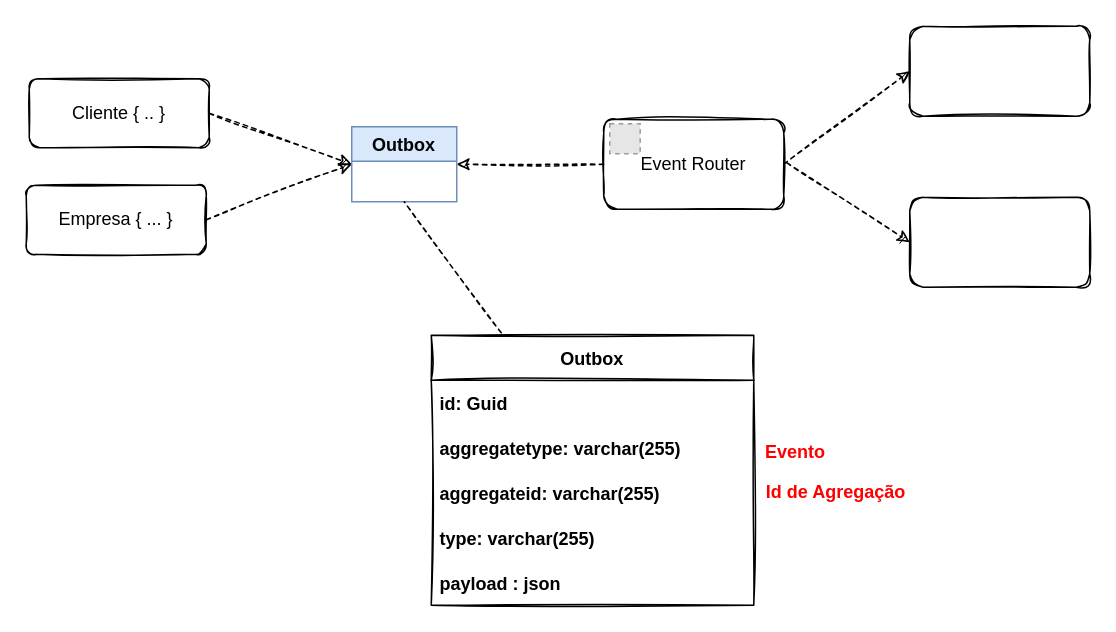
This 1116x632 diagram has some shape labels left out. Grey dashed boxes stand in for pictures. The shapes that lost their labels are listed below. From the top down, each one's box as (x1, y1, x2, y2) in pixels, then its label:
(908, 25, 1090, 116): Event Cliente
(908, 196, 1090, 287): Event Empresa
